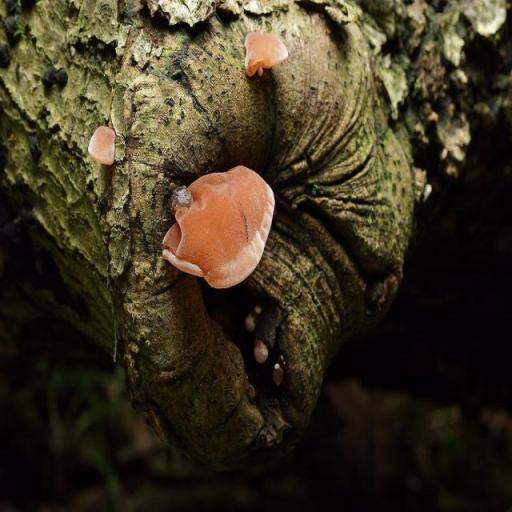Wood Ear Mushroom: (162, 165, 275, 289), (243, 23, 289, 76), (87, 120, 116, 166)
